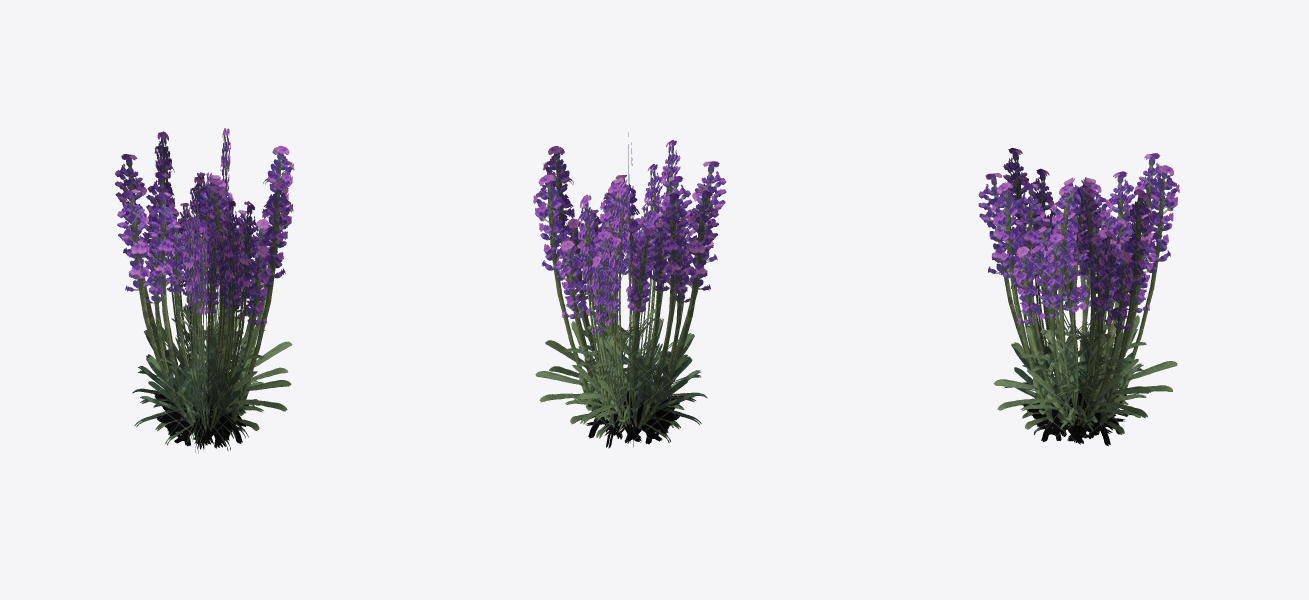
File: lavendar.fbx
3 views of the same model, side by side, from view 1: azimuth 30°, elevation 25°; view 2: azimuth 150°, elevation 25°; view 3: azimuth 270°, elevation 25° (orthographic).
Parts seen in each view (by area): view 1: Plane.003; view 2: Plane.003; view 3: Plane.003.
Part boxes in pixels (left/top/right/bottom): Plane.003: left=115, top=128, right=294, bottom=453; Plane.003: left=533, top=132, right=726, bottom=448; Plane.003: left=978, top=148, right=1179, bottom=446.
Bounding box in the file's own units: 200 × 200 × 200.
Materials: 1 (1 with a texture image).
